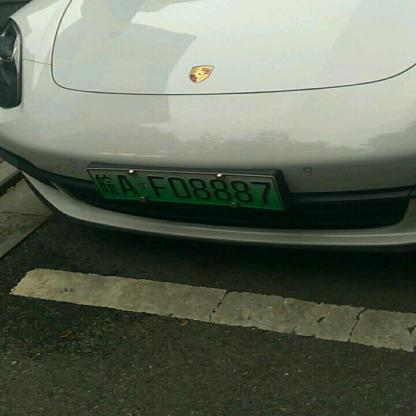lp: (87, 168, 280, 208)
